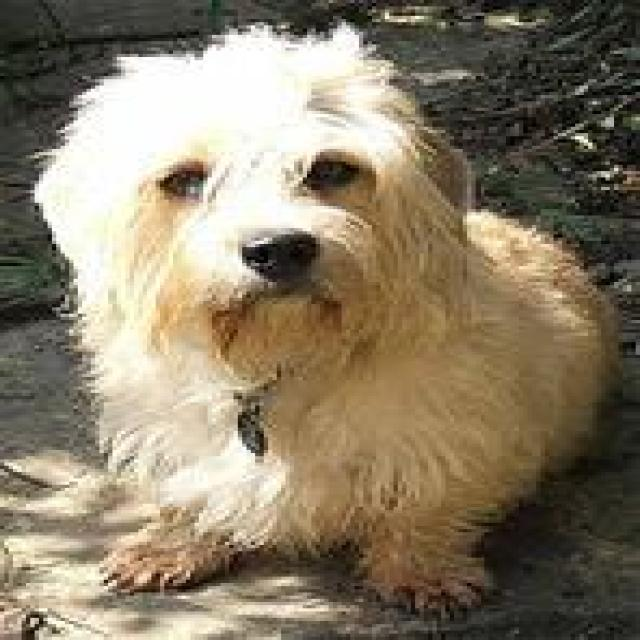dandie_dinmont: (22, 22, 610, 618)
